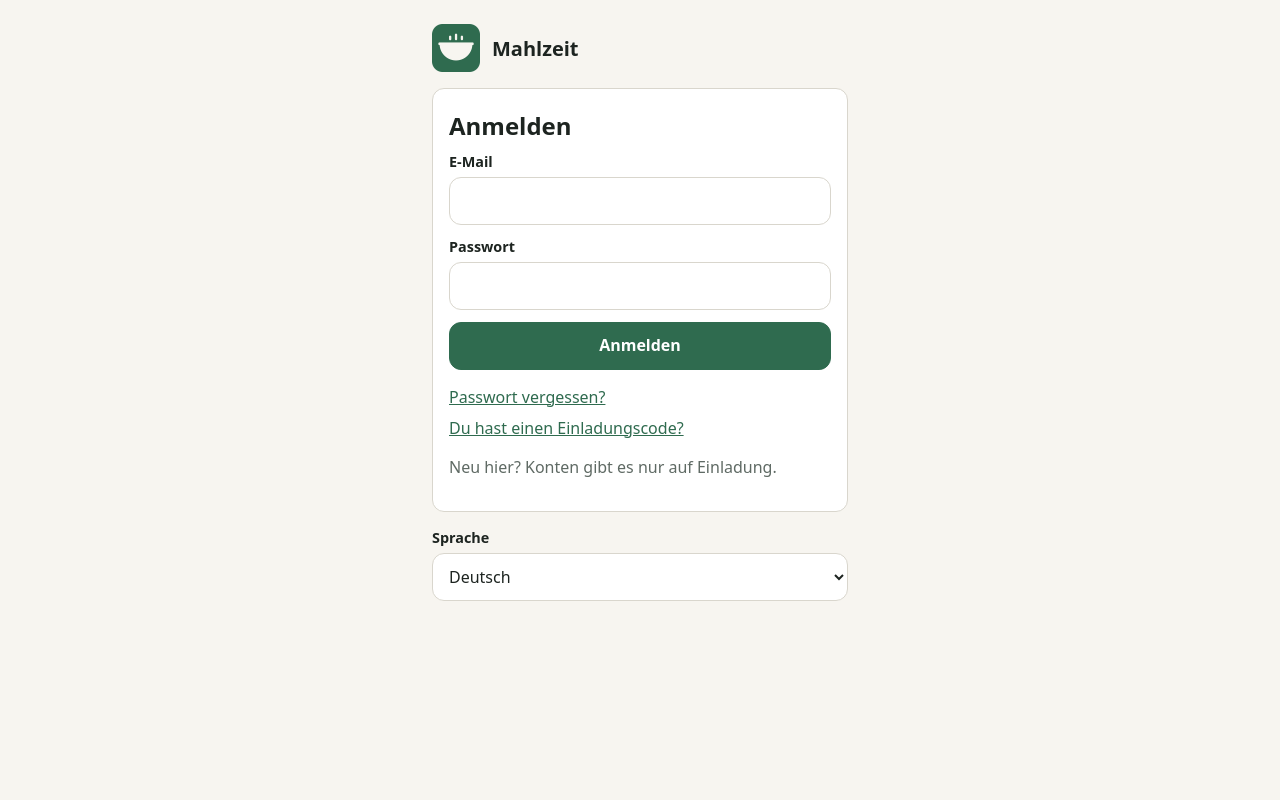
Test: sign-in › logs in, adopts the user language and returns to the requested page
The width and height of the screenshot is (1280, 800).
Type "jonas@example.org" into the field labelled "E-Mail" at {"x": 640, "y": 201}, box [449,177,831,225]
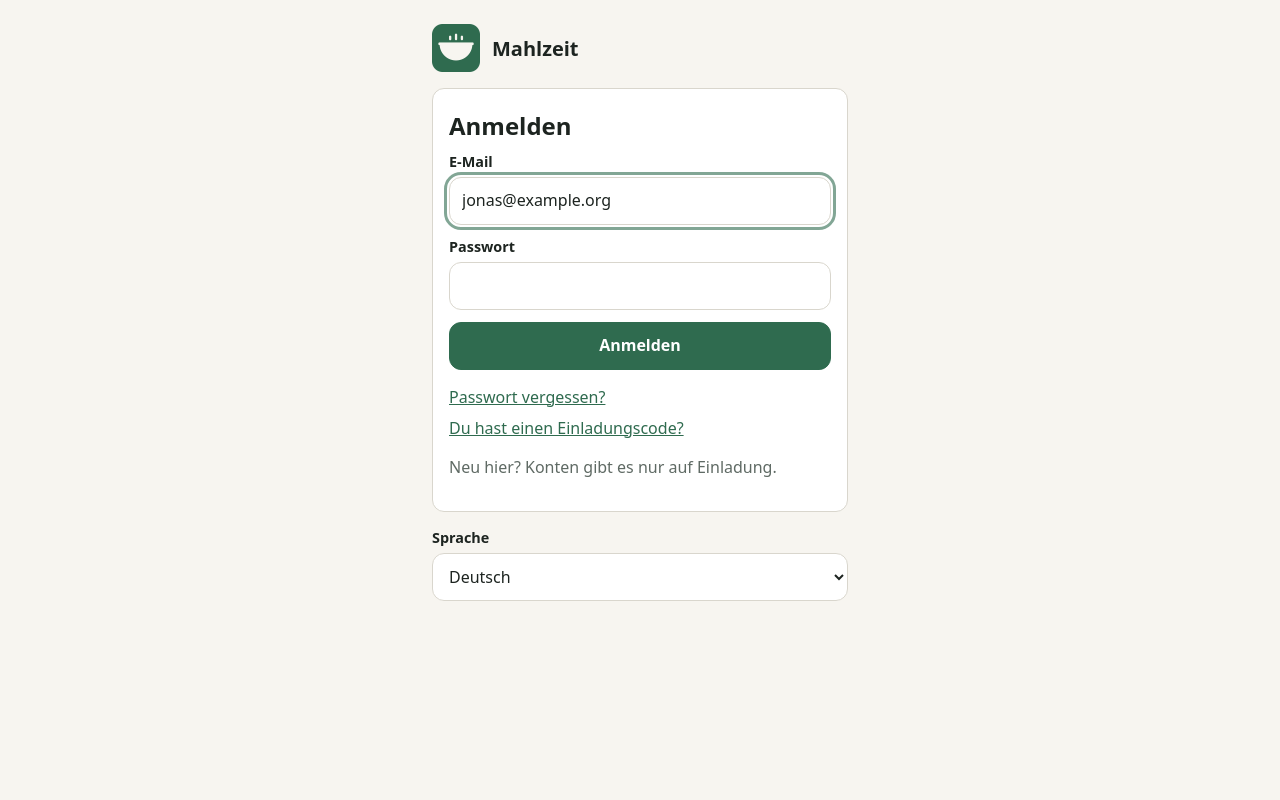
Type "correct horse battery" into the password field labelled "Passwort" at {"x": 640, "y": 286}, box [449,262,831,310]
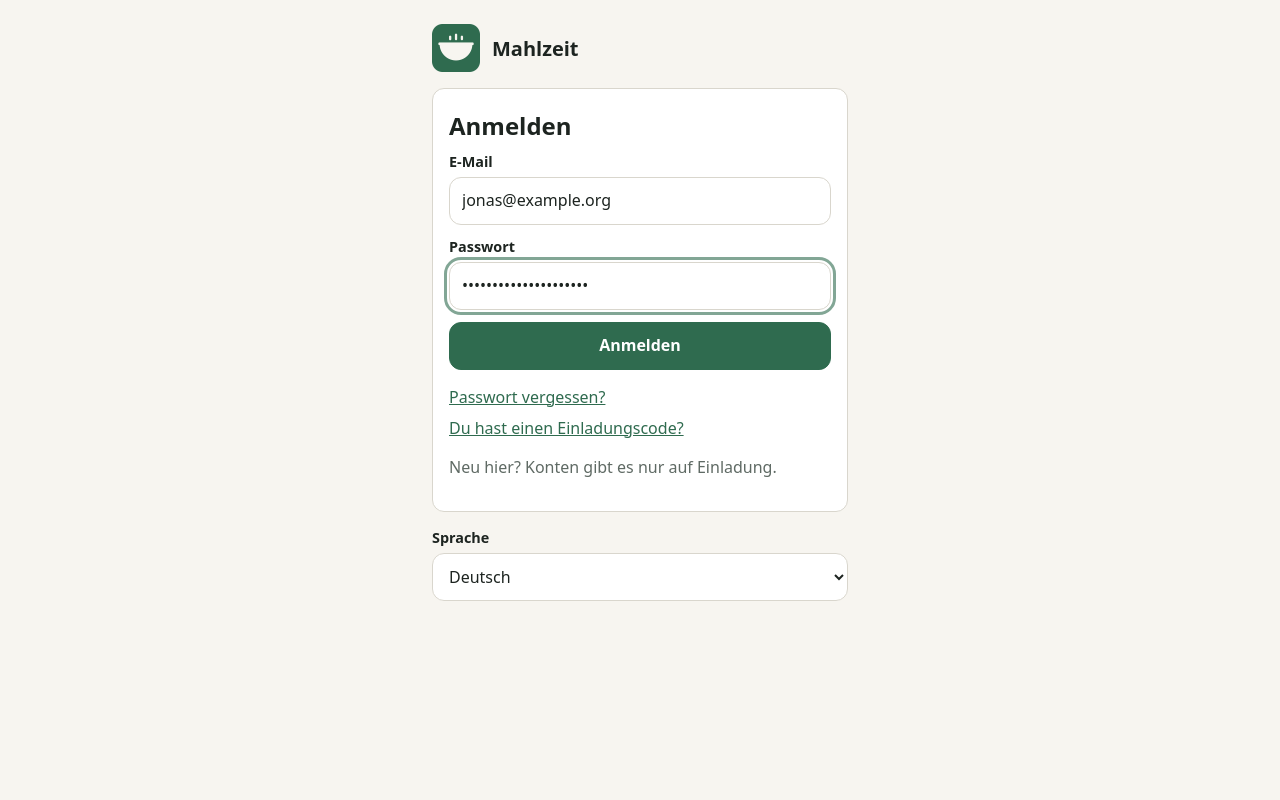
Click the button "Anmelden" at {"x": 640, "y": 346}, box [449,322,831,370]
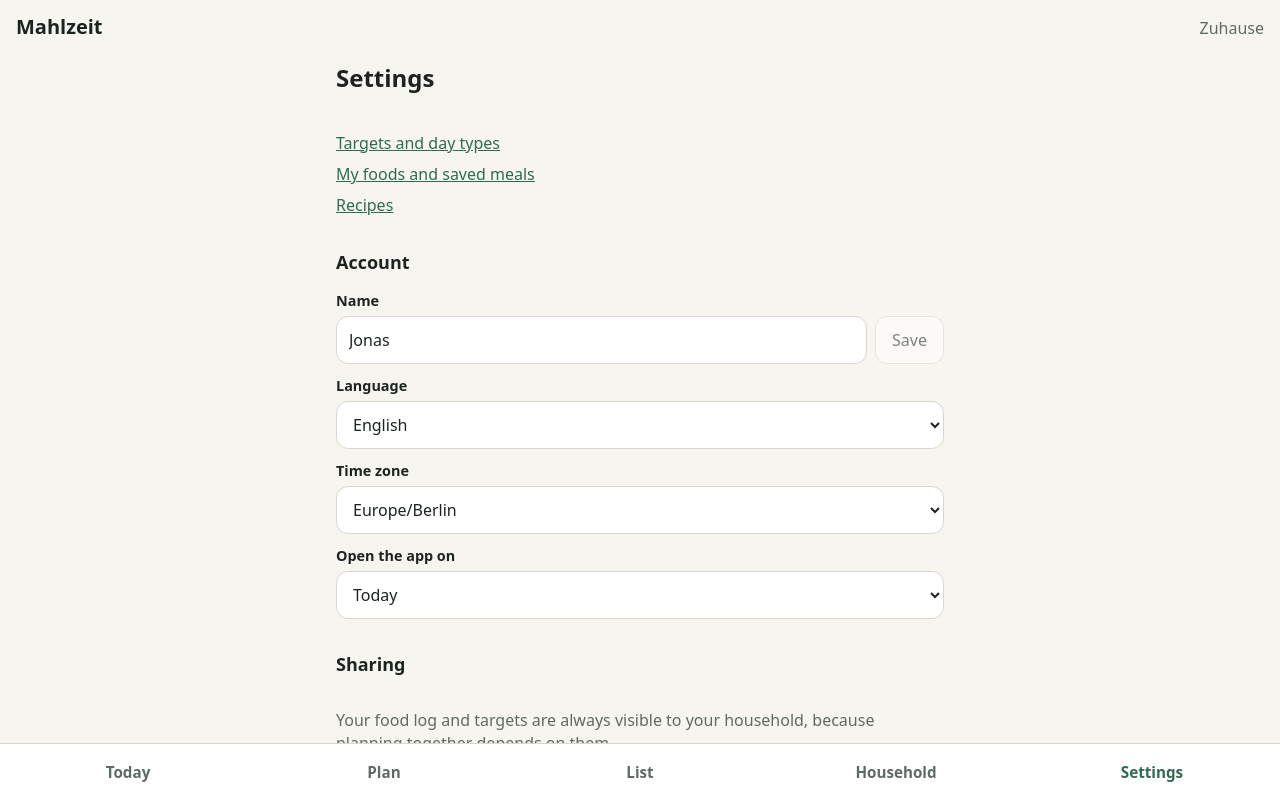
expect the heading "Settings" is shown: met, box [336,61,434,94]
